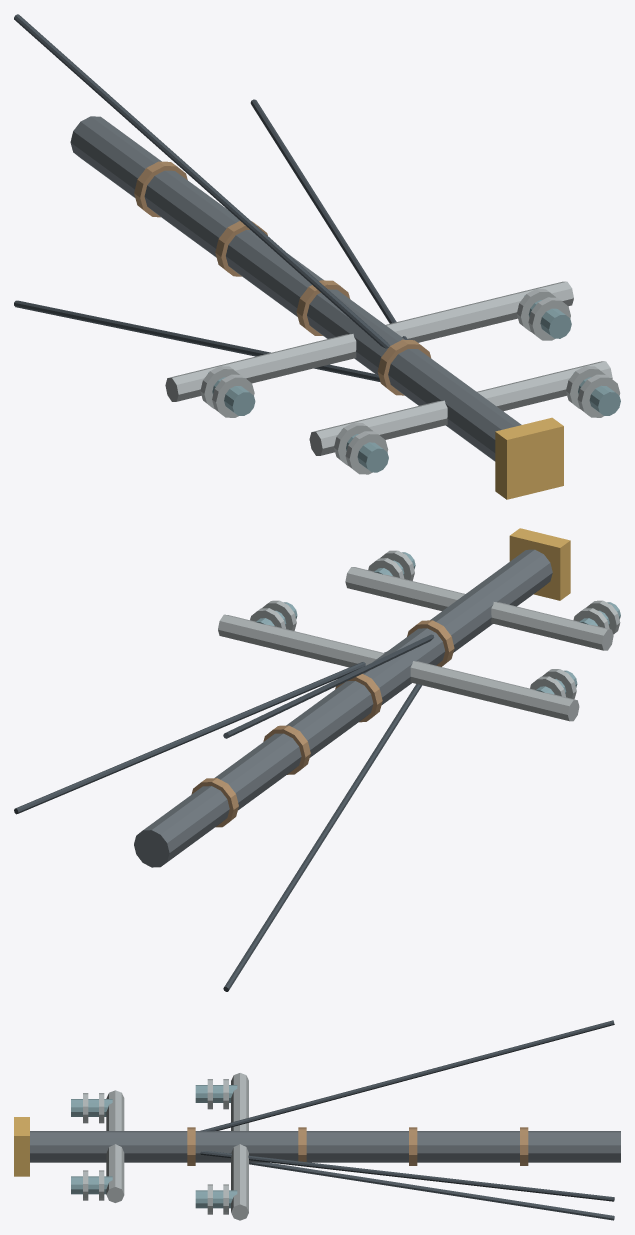
The model's file is powerquest_utility_pole.glb.
3 views of the same model, one above another, from view 1: azimuth 30°, elevation 25°; view 2: azimuth 150°, elevation 25°; view 3: azimuth 270°, elevation 25° (orthographic). The views are drawn at different scales.
Visible parts, largest first — view 1: powerquest_utility_pole_000, powerquest_utility_pole_001, powerquest_utility_pole_011, powerquest_utility_pole_025, powerquest_utility_pole_027, powerquest_utility_pole_028, powerquest_utility_pole_026, powerquest_utility_pole_021, powerquest_utility_pole_024, powerquest_utility_pole_010, powerquest_utility_pole_014, powerquest_utility_pole_004 (+7 smaller); view 2: powerquest_utility_pole_000, powerquest_utility_pole_001, powerquest_utility_pole_011, powerquest_utility_pole_026, powerquest_utility_pole_028, powerquest_utility_pole_025, powerquest_utility_pole_027, powerquest_utility_pole_022, powerquest_utility_pole_021, powerquest_utility_pole_024; view 3: powerquest_utility_pole_000, powerquest_utility_pole_027, powerquest_utility_pole_001, powerquest_utility_pole_026, powerquest_utility_pole_028, powerquest_utility_pole_011, powerquest_utility_pole_025, powerquest_utility_pole_008, powerquest_utility_pole_018, powerquest_utility_pole_002, powerquest_utility_pole_012, powerquest_utility_pole_021 (+3 smaller).
Boxes of the visible parts, box(x1,y1,x2,y2) form: powerquest_utility_pole_000: box(70, 116, 521, 461); powerquest_utility_pole_001: box(165, 281, 573, 401); powerquest_utility_pole_011: box(309, 361, 612, 455); powerquest_utility_pole_025: box(495, 417, 563, 499); powerquest_utility_pole_027: box(14, 14, 389, 348); powerquest_utility_pole_028: box(14, 300, 380, 382); powerquest_utility_pole_026: box(250, 99, 407, 339); powerquest_utility_pole_021: box(134, 161, 187, 217); powerquest_utility_pole_024: box(377, 339, 431, 395); powerquest_utility_pole_010: box(528, 297, 570, 340); powerquest_utility_pole_014: box(345, 431, 388, 474); powerquest_utility_pole_004: box(212, 374, 254, 417); powerquest_utility_pole_000: box(134, 549, 552, 867); powerquest_utility_pole_001: box(218, 614, 579, 721); powerquest_utility_pole_011: box(345, 567, 613, 650); powerquest_utility_pole_026: box(14, 652, 385, 814); powerquest_utility_pole_028: box(223, 684, 422, 991); powerquest_utility_pole_025: box(509, 528, 570, 600); powerquest_utility_pole_027: box(223, 634, 434, 738); powerquest_utility_pole_022: box(263, 725, 310, 774); powerquest_utility_pole_021: box(191, 778, 238, 827); powerquest_utility_pole_024: box(407, 620, 454, 666); powerquest_utility_pole_000: box(30, 1131, 620, 1162); powerquest_utility_pole_027: box(200, 1020, 614, 1131); powerquest_utility_pole_001: box(231, 1073, 248, 1220); powerquest_utility_pole_026: box(200, 1151, 614, 1201); powerquest_utility_pole_028: box(249, 1162, 614, 1220); powerquest_utility_pole_011: box(106, 1090, 124, 1202); powerquest_utility_pole_025: box(14, 1117, 29, 1176); powerquest_utility_pole_008: box(195, 1190, 237, 1208); powerquest_utility_pole_018: box(71, 1176, 112, 1194); powerquest_utility_pole_002: box(195, 1085, 237, 1102); powerquest_utility_pole_012: box(71, 1099, 112, 1116); powerquest_utility_pole_021: box(520, 1127, 528, 1165).
Bounding box in the file's own units: 4.5 × 3.18 × 8.77.
